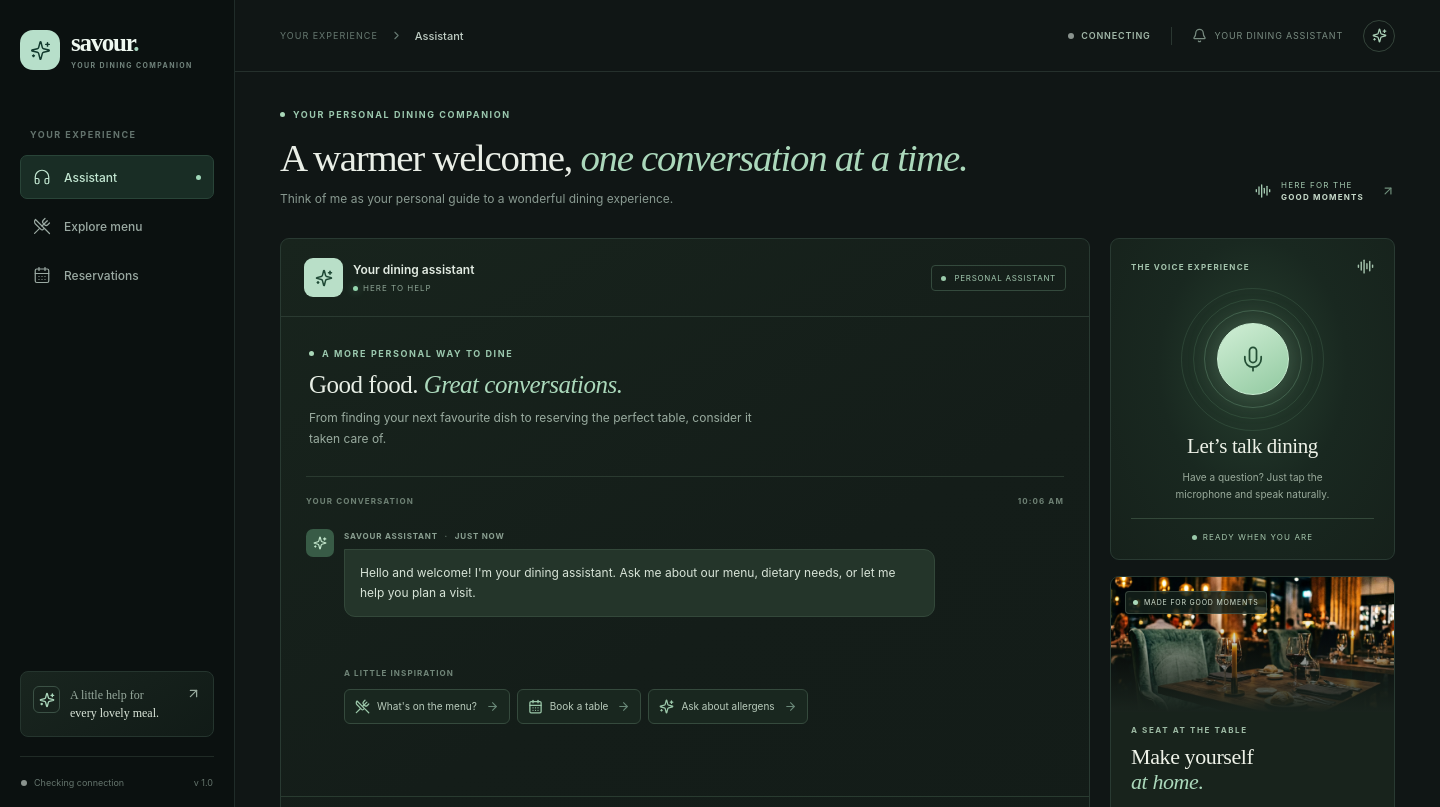
restaurant experience › shows live menu data and navigates to reservations
Click the button "Explore menu". click: click(117, 226)
box: [20,204,214,248]
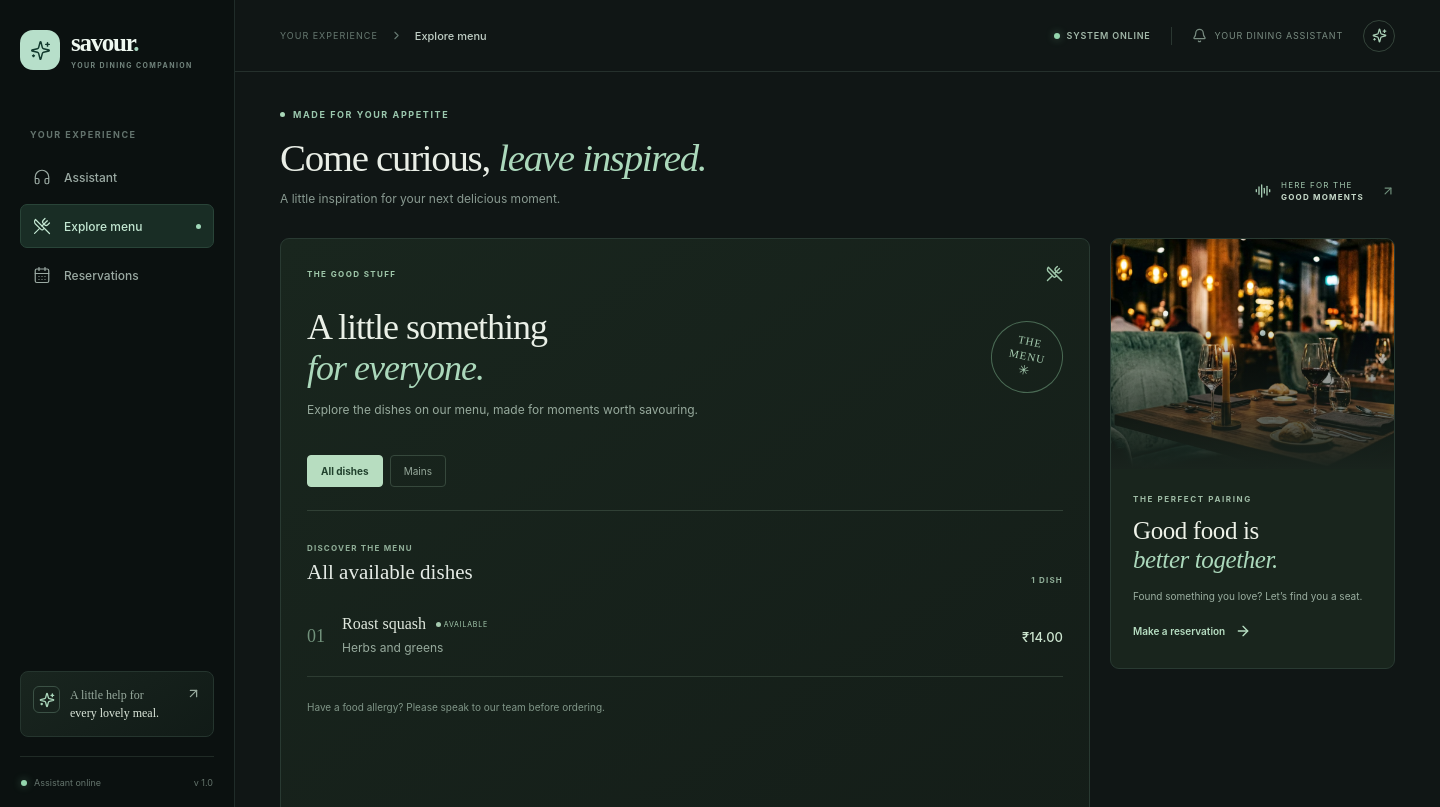
Expected: the text "Roast squash" is shown, [342,615,426,632]
Expected: the text "₹14.00" is shown, [1022,629,1063,645]
Click the button "Reservations". click: click(117, 275)
box: [20,253,214,297]
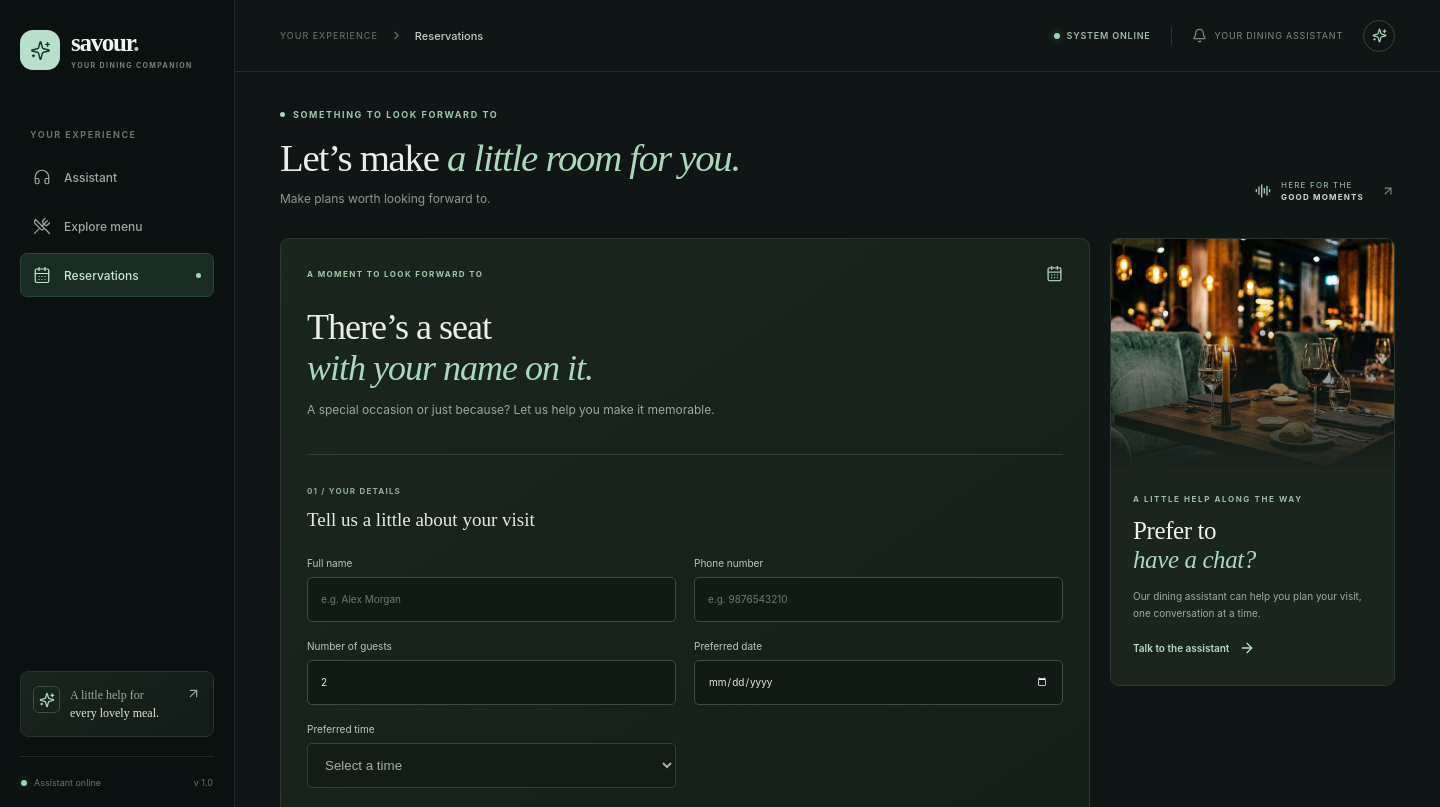
Expected: the text "Tell us a little about your visit" is shown, [307,509,535,530]
